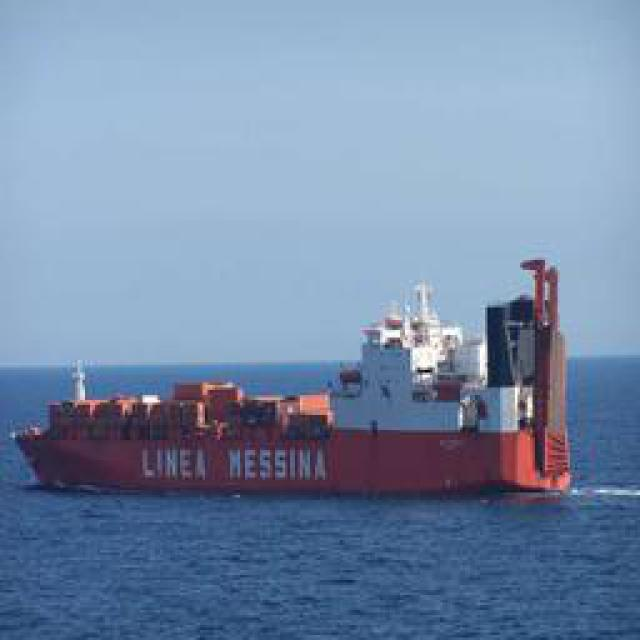Ship: (26, 263, 574, 501)
